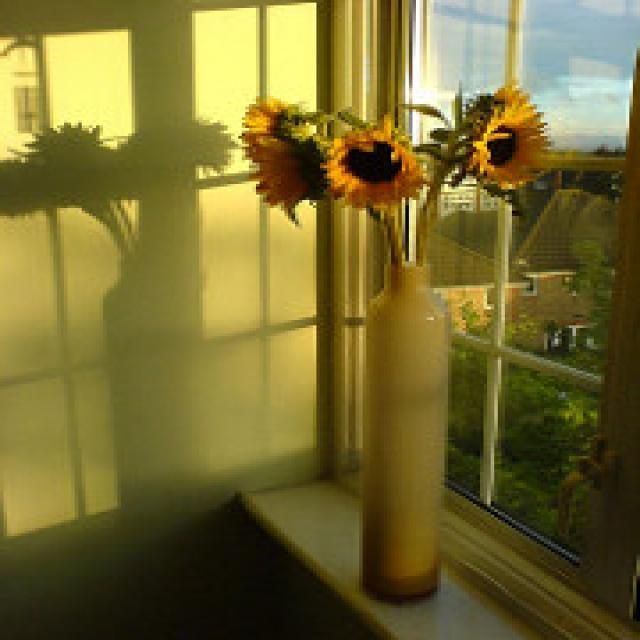sunflower: (318, 114, 424, 204), (232, 134, 311, 228), (466, 116, 554, 186), (485, 84, 538, 122), (242, 99, 286, 138)
